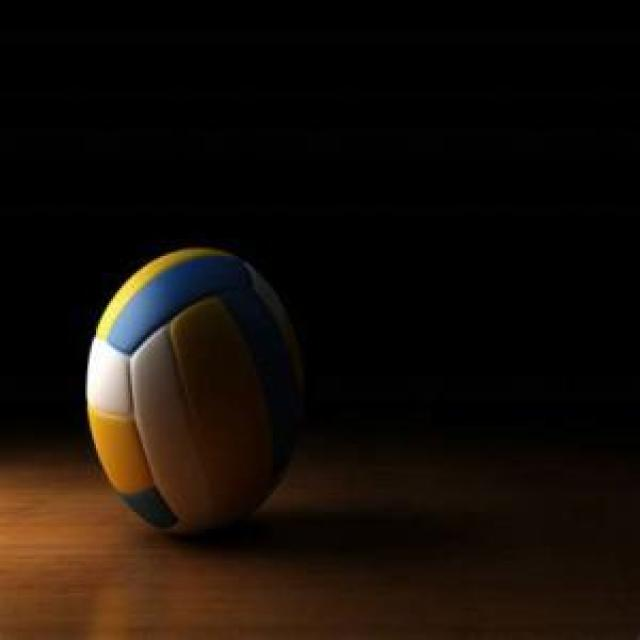volleyball: (85, 248, 303, 538)
